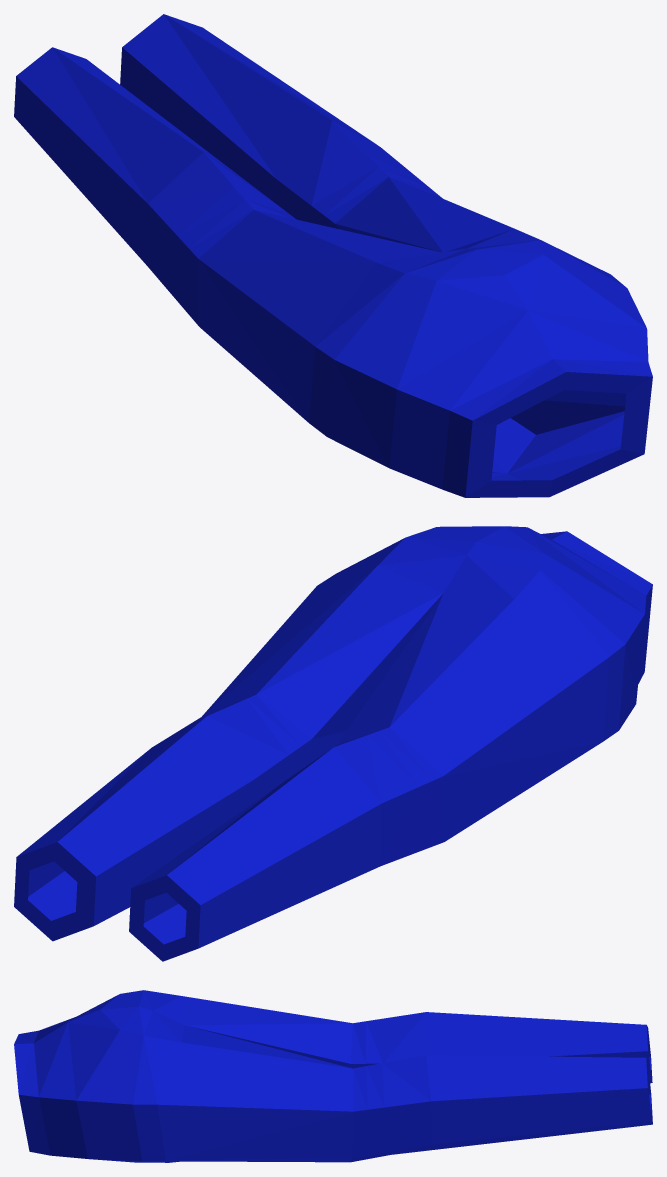
File: skinny.obj
The picture shows the model from 3 angles, top to bottom: view 1: azimuth 30°, elevation 25°; view 2: azimuth 150°, elevation 25°; view 3: azimuth 270°, elevation 25°; orthographic projection. The views are drawn at different scales.
Parts seen in each view (by area): view 1: pants; view 2: pants; view 3: pants.
Boxes of the visible parts, box(x1,y1,x2,y2) form: pants: box(14, 14, 652, 497); pants: box(14, 526, 652, 961); pants: box(14, 990, 652, 1162).
Bounding box in the file's own units: 2.22 × 1.44 × 6.02.
